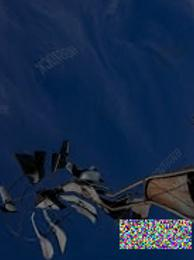faulty: (8, 151, 116, 220)
